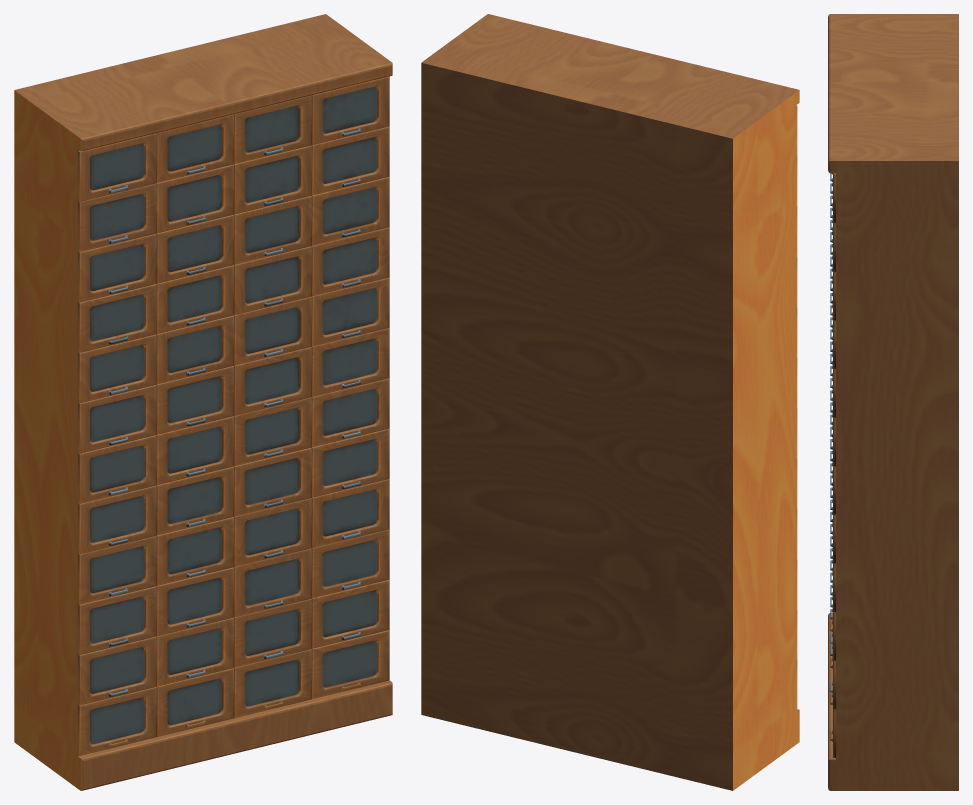
The picture shows the model from 3 angles, left to right: view 1: azimuth 30°, elevation 25°; view 2: azimuth 150°, elevation 25°; view 3: azimuth 270°, elevation 25°; orthographic projection. The views are drawn at different scales.
Parts seen in each view (by area): view 1: Cube.002, Cube.006, Cube.005; view 2: Cube.002, Cube.005; view 3: Cube.005, Cube.002.
Boxes of the visible parts, left/top/right/bottom form: Cube.002: left=78, top=76, right=389, bottom=755; Cube.006: left=77, top=76, right=389, bottom=756; Cube.005: left=14, top=14, right=392, bottom=790; Cube.002: left=421, top=75, right=797, bottom=758; Cube.005: left=421, top=14, right=799, bottom=790; Cube.005: left=828, top=14, right=958, bottom=790; Cube.002: left=830, top=173, right=835, bottom=757.
Bounding box in the file's own units: 100 × 201 × 37.79.
2 materials, 2 textured.
